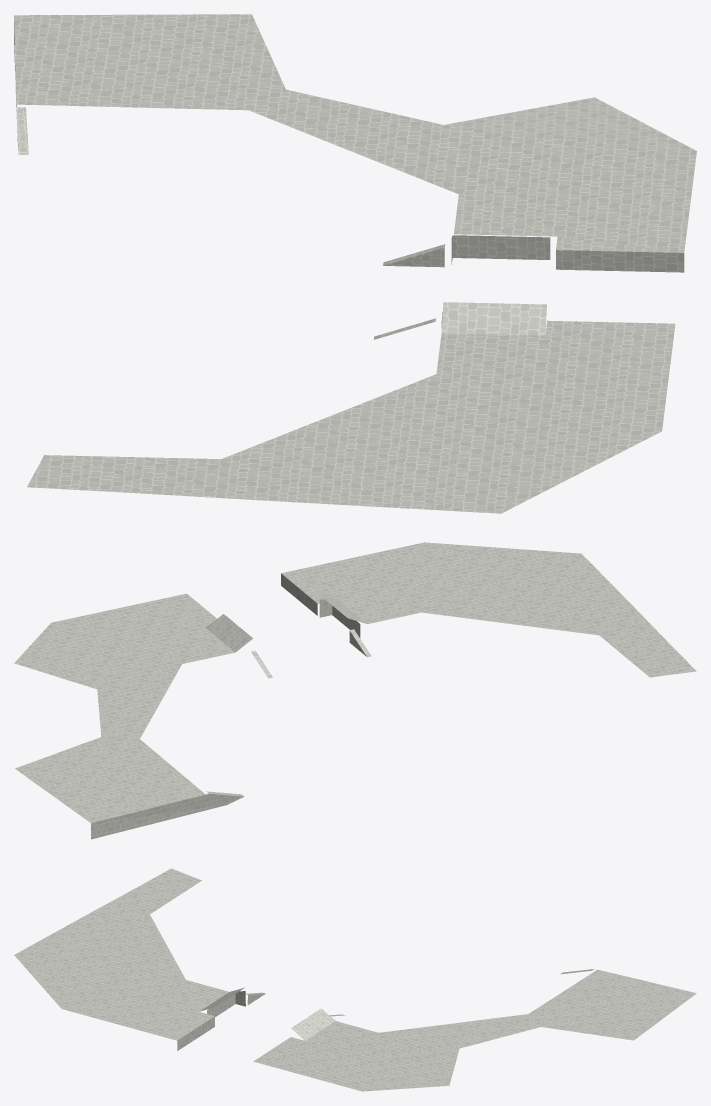
Rendered from kd_stage_136599_18_2.glb.
3 views of the same model, one above another, from view 1: azimuth 30°, elevation 25°; view 2: azimuth 150°, elevation 25°; view 3: azimuth 270°, elevation 25° (orthographic). The views are drawn at different scales.
Visible parts, largest first — view 1: kd_stage_136599_18_2; view 2: kd_stage_136599_18_2; view 3: kd_stage_136599_18_2.
Boxes of the visible parts, bbox=[...] form: kd_stage_136599_18_2: bbox=[14, 14, 696, 513]; kd_stage_136599_18_2: bbox=[14, 542, 696, 839]; kd_stage_136599_18_2: bbox=[14, 868, 696, 1091].
Size of the model in its own units: 29.79 by 1.42 by 38.53.
1 material, 1 textured.
